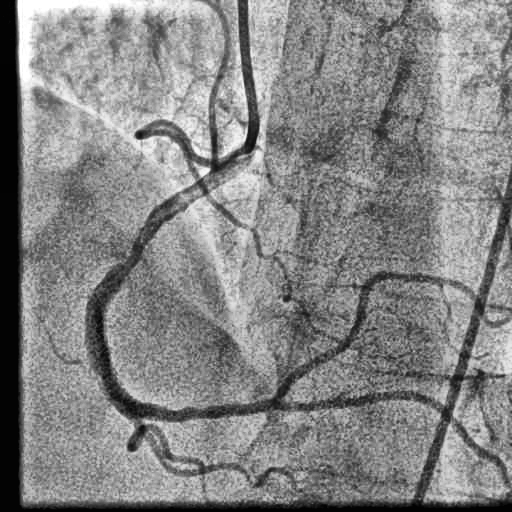pborca: (276, 272, 498, 399)
pda: (277, 390, 500, 464)
rca: (85, 168, 276, 422)
